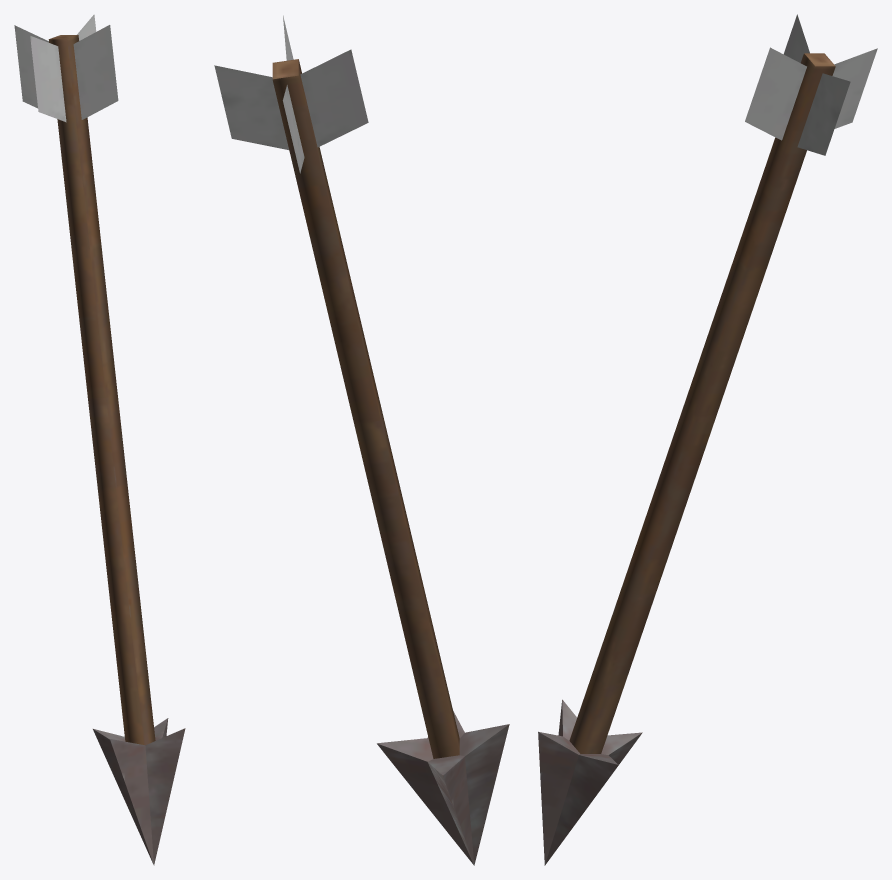
The model's file is arrow-slice-base.glb.
3 views of the same model, side by side, from view 1: azimuth 30°, elevation 25°; view 2: azimuth 150°, elevation 25°; view 3: azimuth 270°, elevation 25° (orthographic). The views are drawn at different scales.
Size of the model in its own units: 0.1919 by 1.23 by 0.4452.
Materials: 1 (1 with a texture image).
